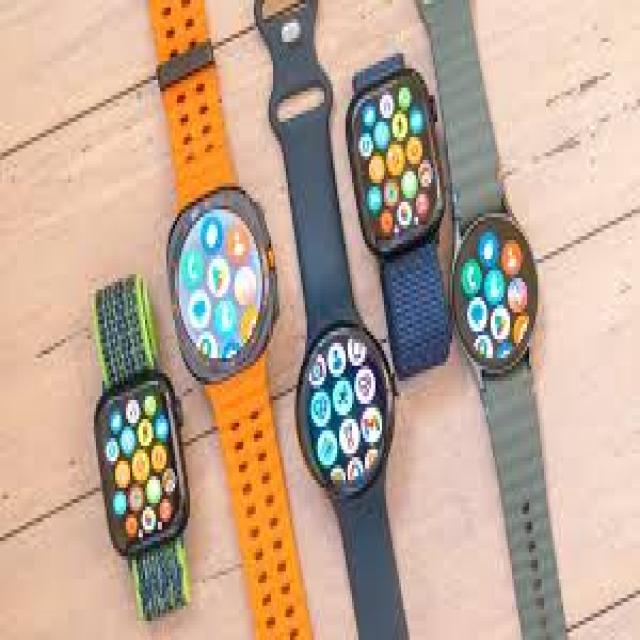watch: (152, 161, 286, 411)
